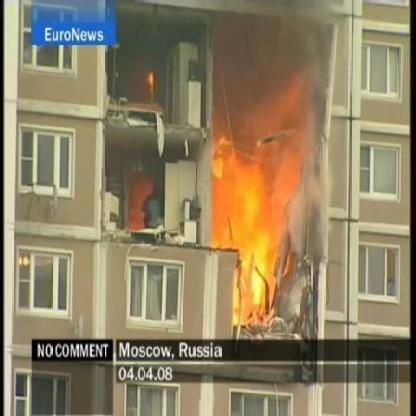fire: (209, 45, 318, 331), (128, 176, 153, 226), (147, 70, 155, 89)
